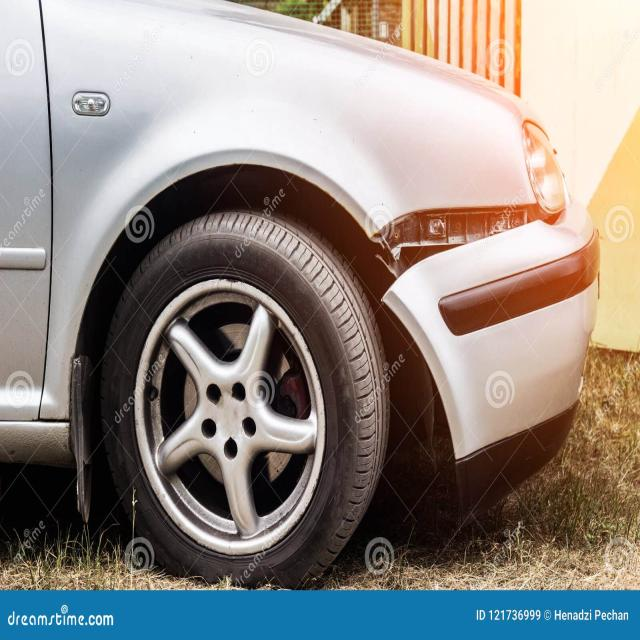misalignment: (371, 202, 562, 282)
